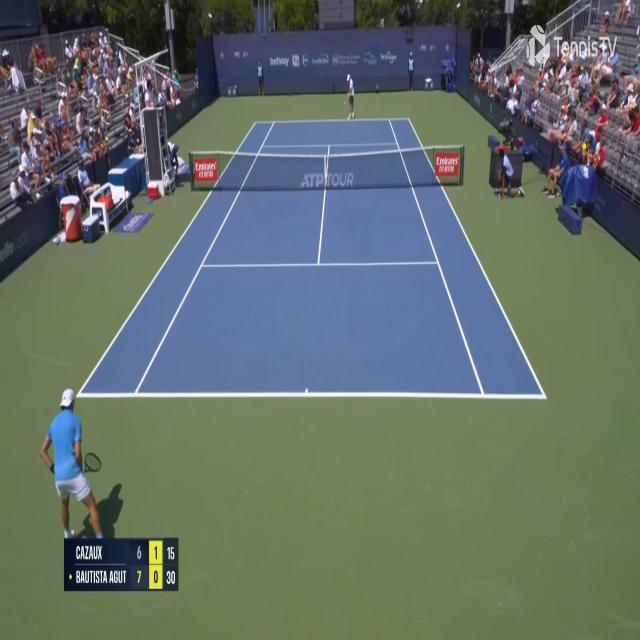tennis-player: (39, 386, 120, 547), (344, 74, 356, 122)
